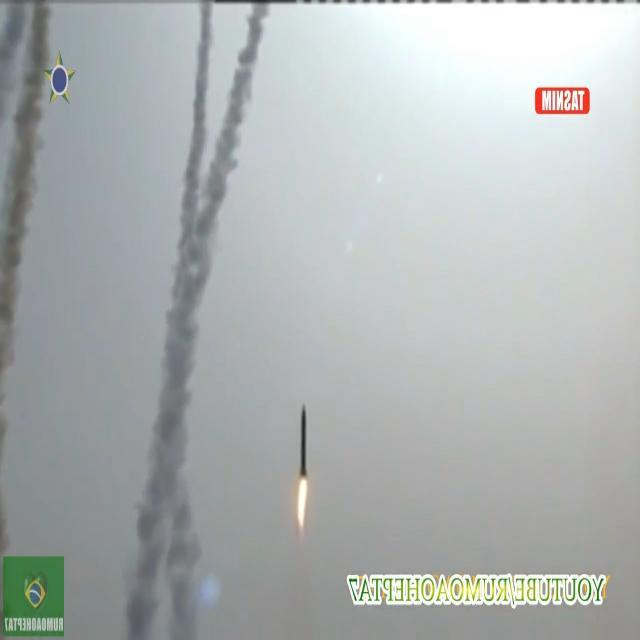Missile: (298, 403, 310, 489)
